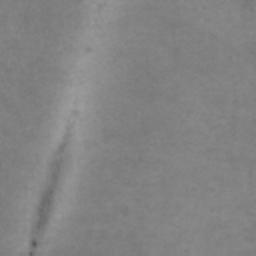Finishing roll printing: (28, 109, 82, 256)
